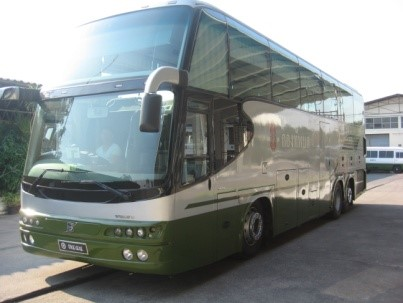bus: (20, 1, 369, 278)
